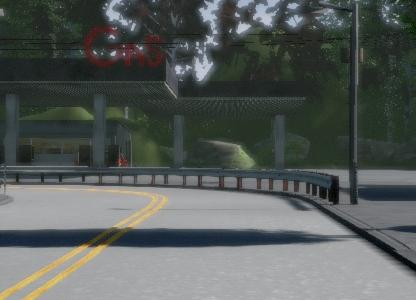Speed_60: (286, 66, 333, 116)
